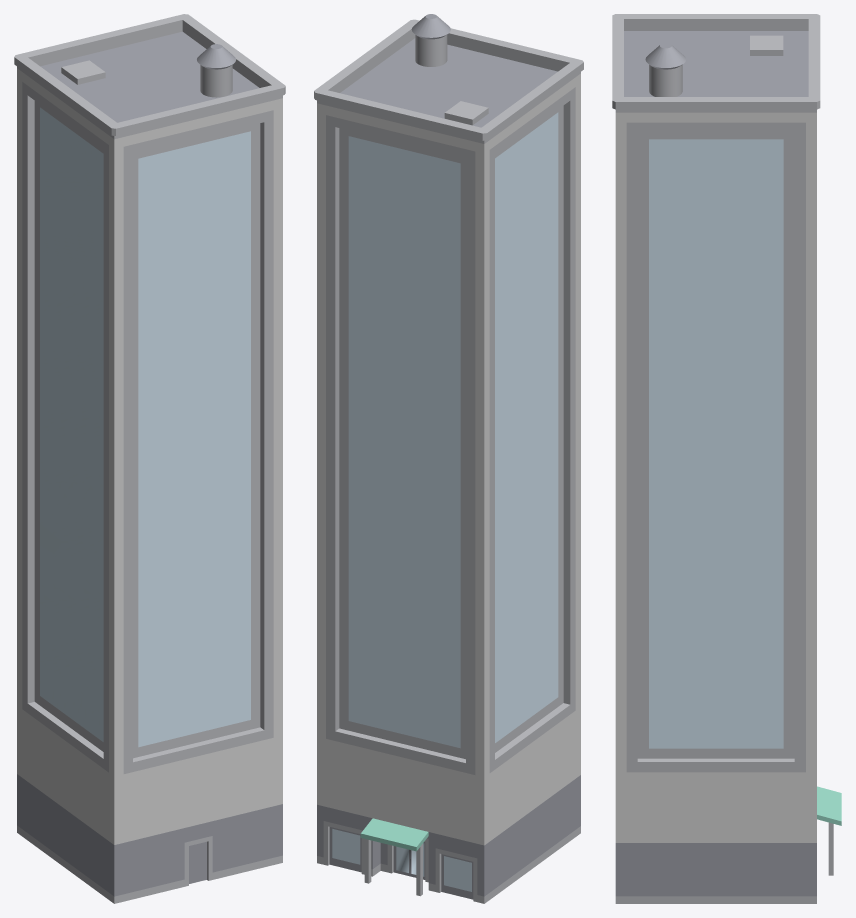
Rendered from skyd.fbx.
The picture shows the model from 3 angles, left to right: view 1: azimuth 30°, elevation 25°; view 2: azimuth 150°, elevation 25°; view 3: azimuth 270°, elevation 25°; orthographic projection. The views are drawn at different scales.
Visible parts, largest first — view 1: skyscraperD; view 2: skyscraperD; view 3: skyscraperD.
Part boxes in pixels (x1,y1,x2,y2): skyscraperD: (14, 14, 285, 903); skyscraperD: (314, 14, 583, 903); skyscraperD: (612, 14, 841, 903).
Bounding box in the file's own units: 248 × 1100 × 274.
